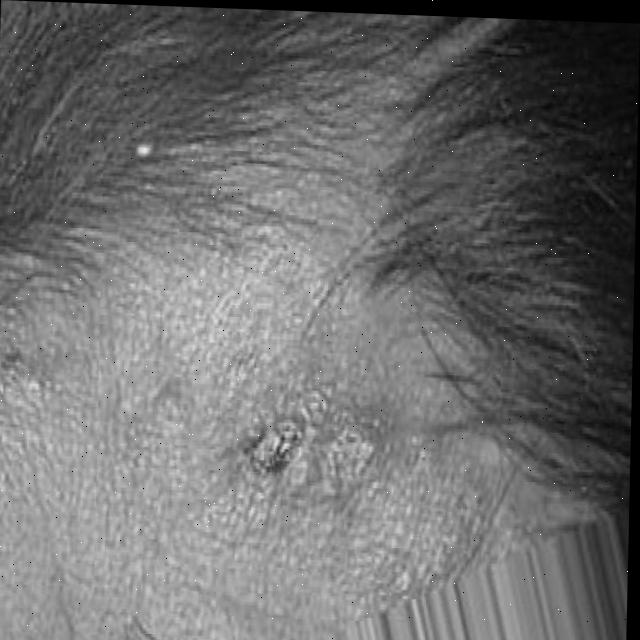Rosacea: (243, 409, 371, 490)
